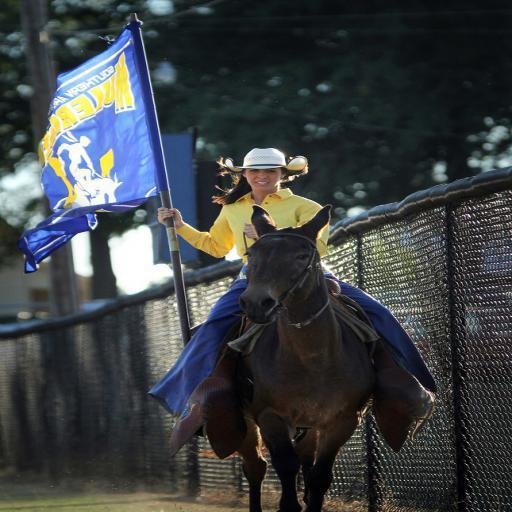horse: (188, 205, 376, 512)
